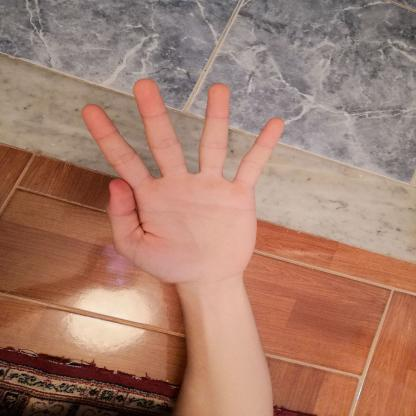SHEEN: (59, 71, 295, 292)
